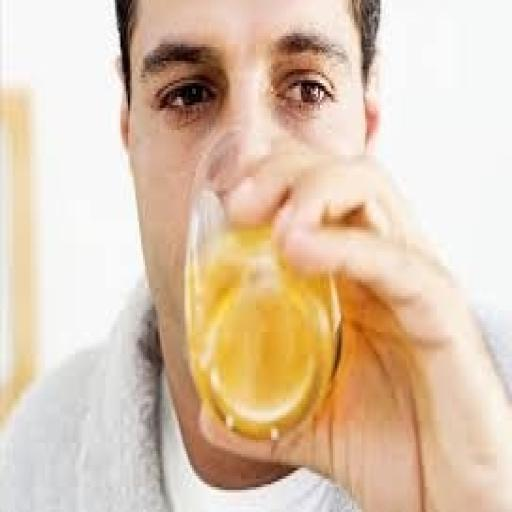drinking: (182, 130, 344, 443)
